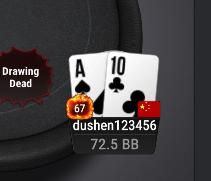10c: (107, 53, 159, 119)
As: (68, 51, 108, 117)
